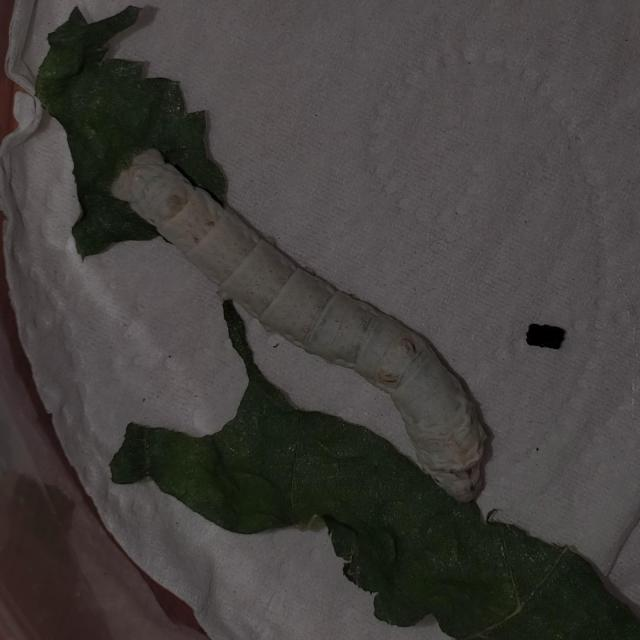Healthy: (85, 117, 503, 520)
